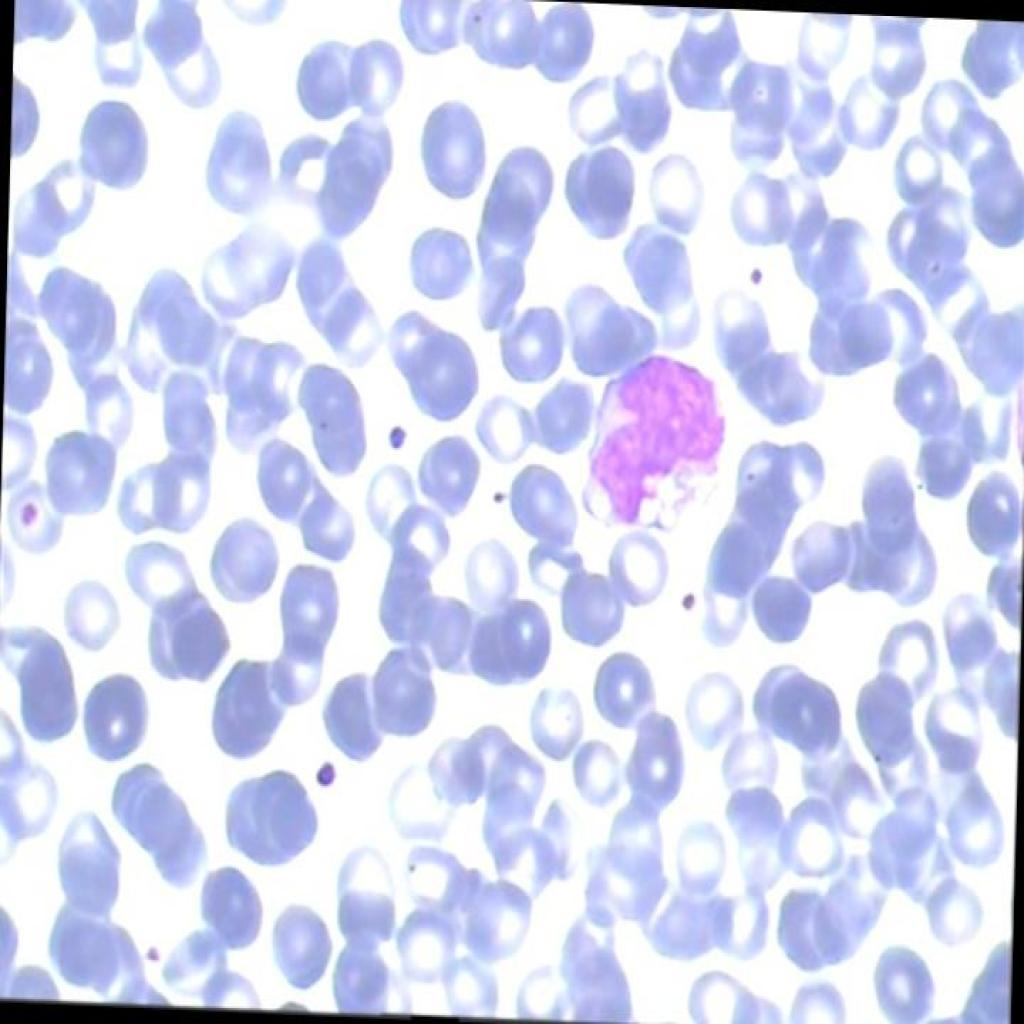Monosit: (562, 334, 732, 550)
Platelet: (302, 730, 344, 804), (480, 468, 510, 518), (671, 578, 700, 626), (136, 926, 166, 972), (12, 489, 42, 531), (741, 258, 777, 293), (384, 416, 414, 452)
